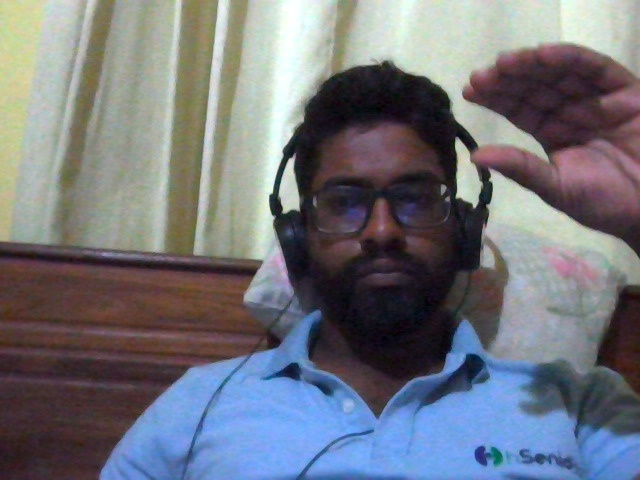No: (434, 20, 640, 266)
